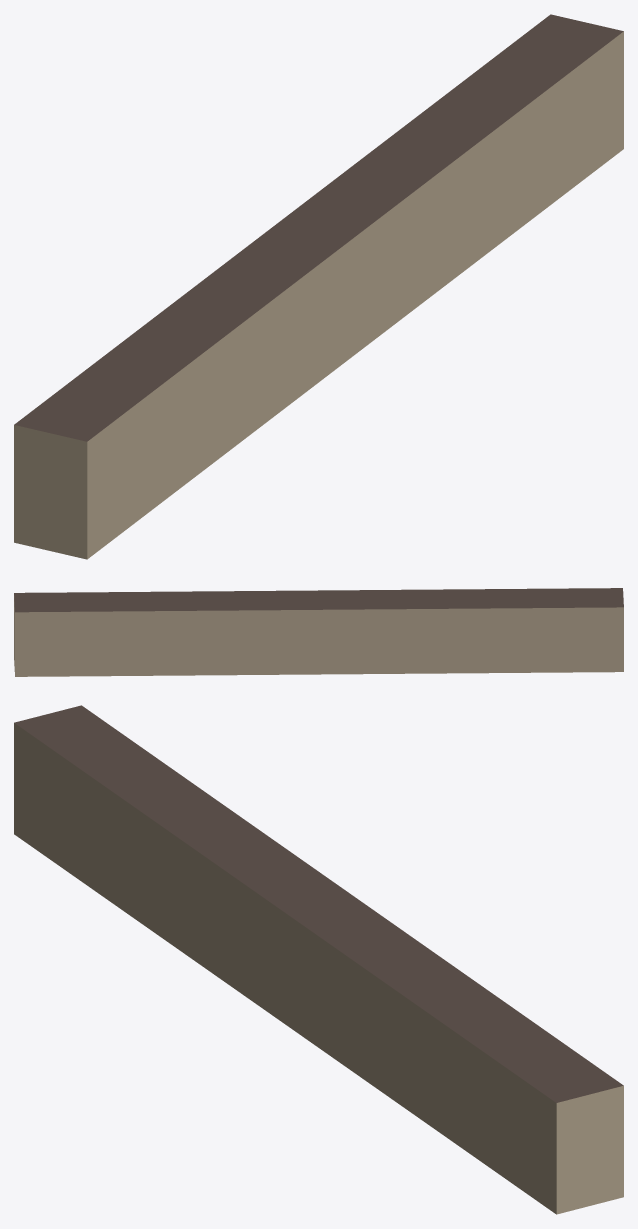
The picture shows the model from 3 angles, top to bottom: view 1: azimuth 30°, elevation 25°; view 2: azimuth 150°, elevation 25°; view 3: azimuth 270°, elevation 25°; orthographic projection. The views are drawn at different scales.
Parts seen in each view (by area): view 1: HP-w859088535; view 2: HP-w859088535; view 3: HP-w859088535.
Boxes of the visible parts, <box> form: HP-w859088535: <box>14,14,623,559</box>; HP-w859088535: <box>14,588,623,676</box>; HP-w859088535: <box>14,705,623,1214</box>.
Bounding box in the file's own units: 68.81 × 9 × 44.6.
